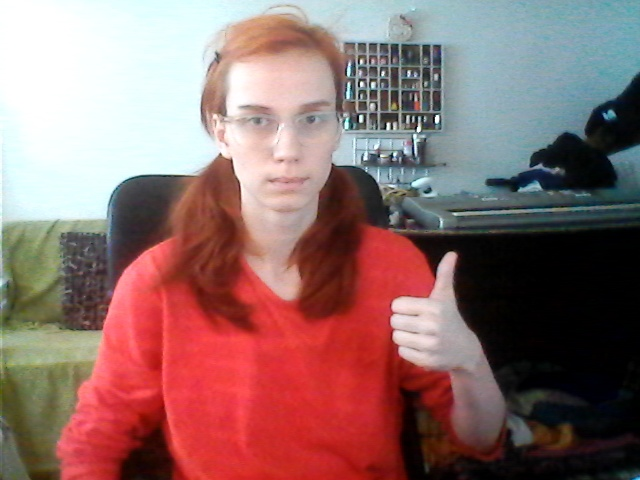jeden: (381, 242, 485, 380)
